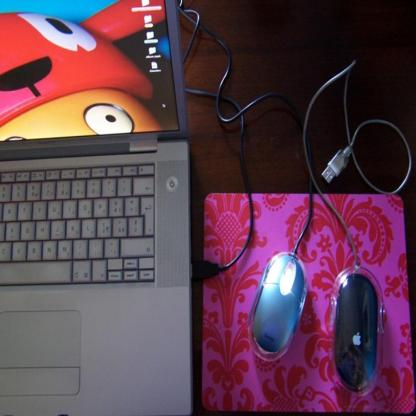board: (0, 38, 202, 412)
